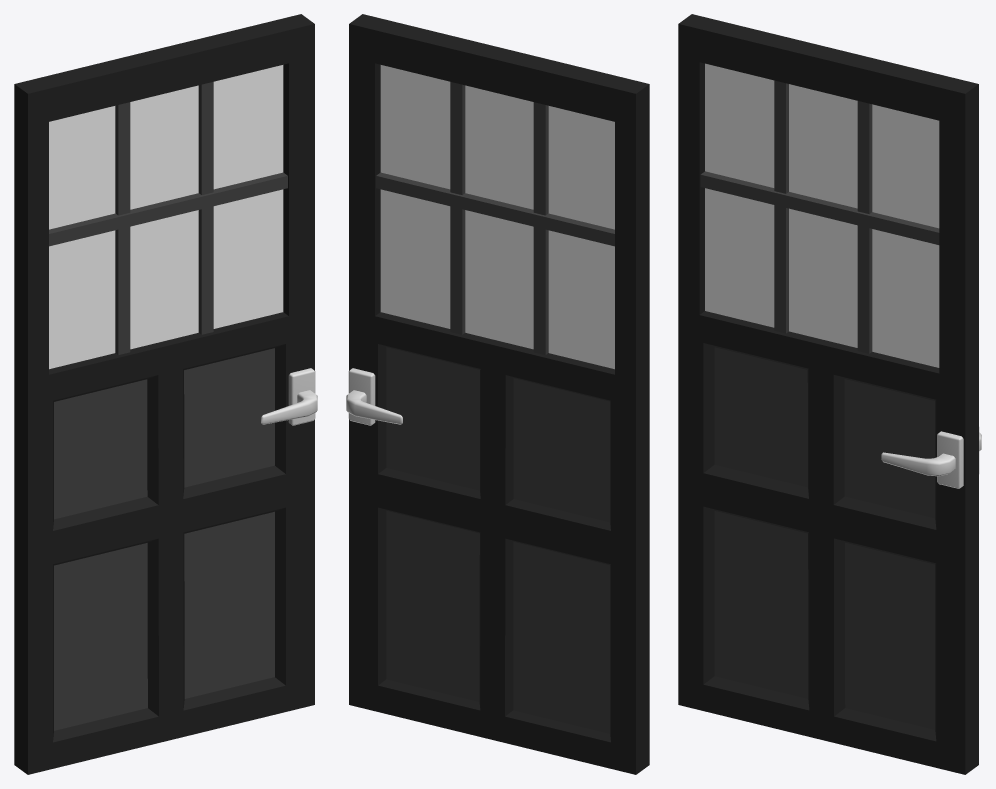
File: door_024.fbx
The picture shows the model from 3 angles, left to right: view 1: azimuth 30°, elevation 25°; view 2: azimuth 150°, elevation 25°; view 3: azimuth 330°, elevation 25°; orthographic projection.
Parts seen in each view (by area): view 1: door_024; view 2: door_024; view 3: door_024.
Part boxes in pixels (bbox=[...]): door_024: bbox=[14, 14, 317, 774]; door_024: bbox=[346, 14, 649, 774]; door_024: bbox=[678, 14, 981, 774].
Size of the model in its own units: 94.86 by 26.61 by 215.
